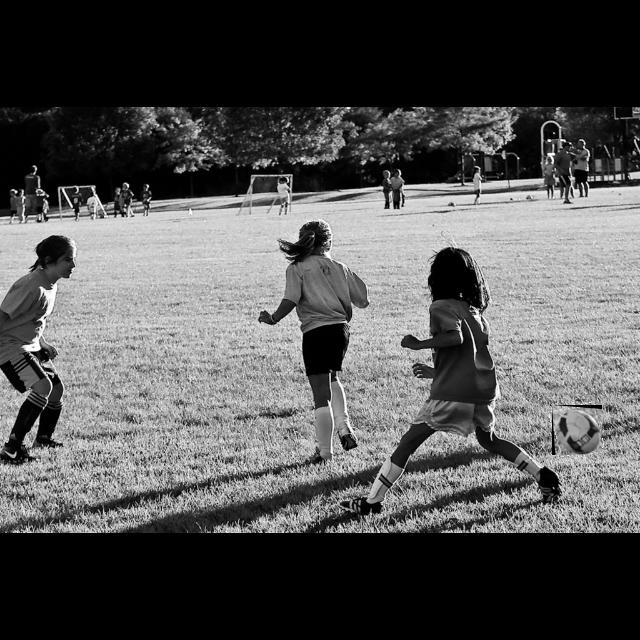Football: (552, 405, 602, 455)
